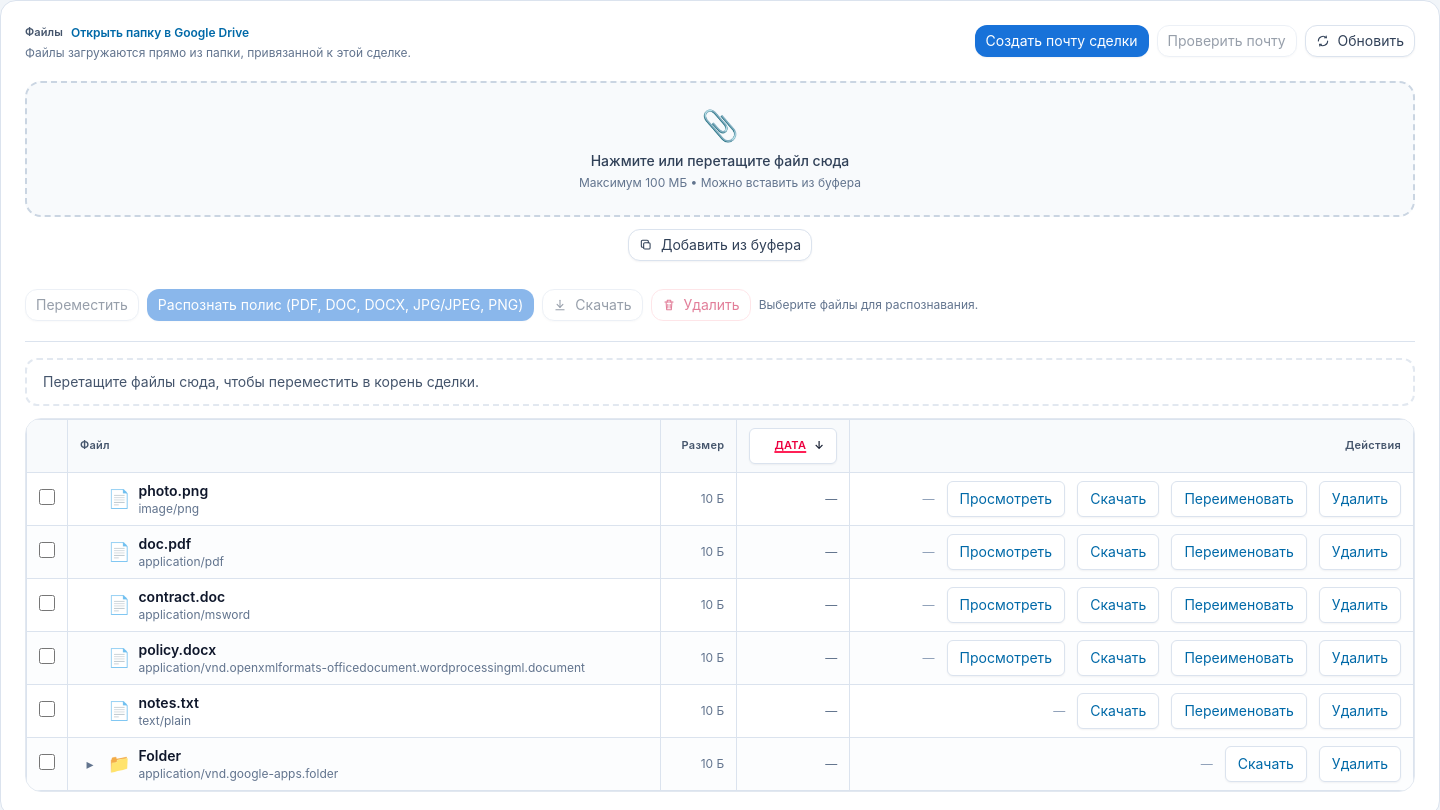
Scenario: FilesTab › renders preview action for supported files and opens image modal
Click the button "Просмотреть" in the row of "photo.png" at {"x": 1006, "y": 499}, box [947, 481, 1065, 517]
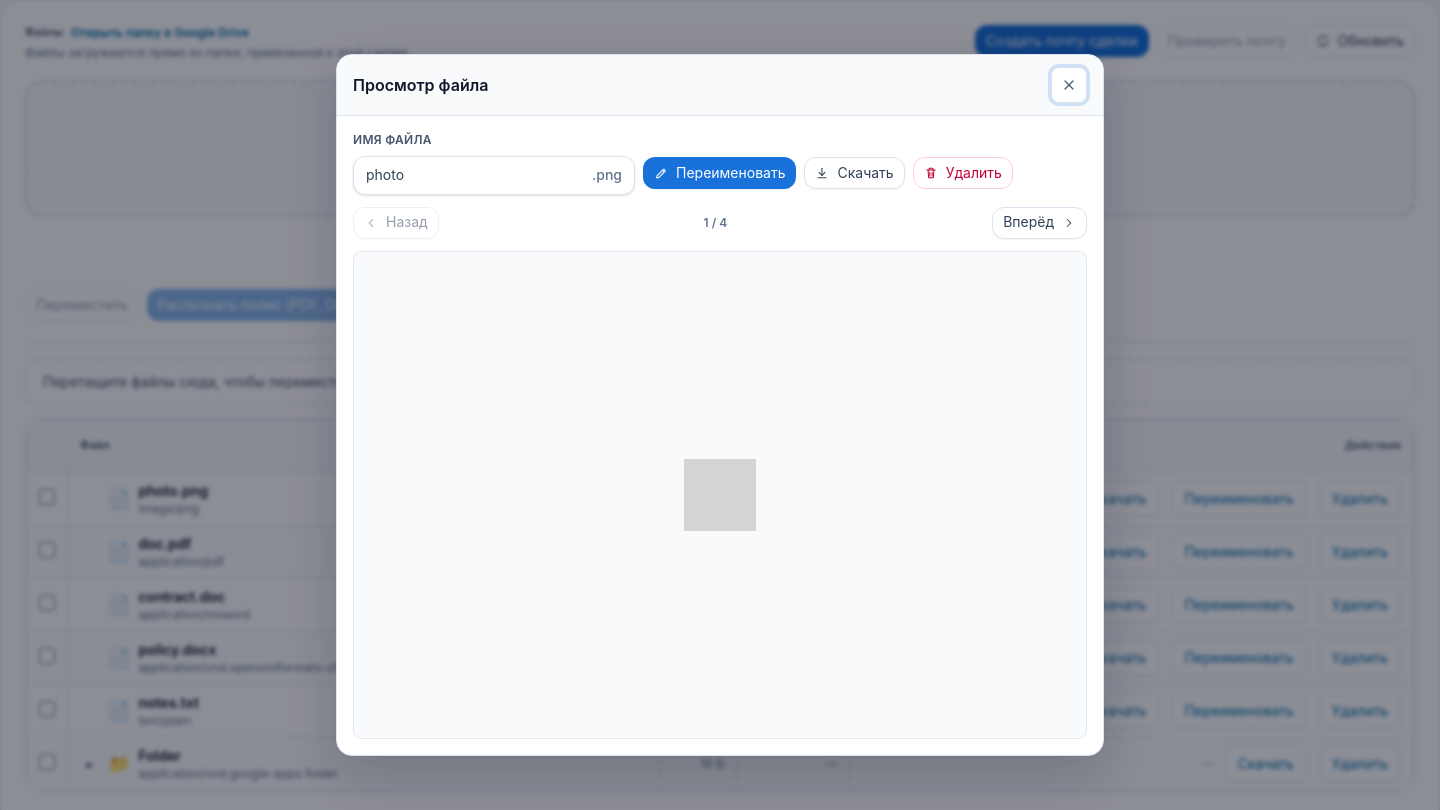
Expected: the text "1 / 4" is shown, [704, 215, 727, 231]
